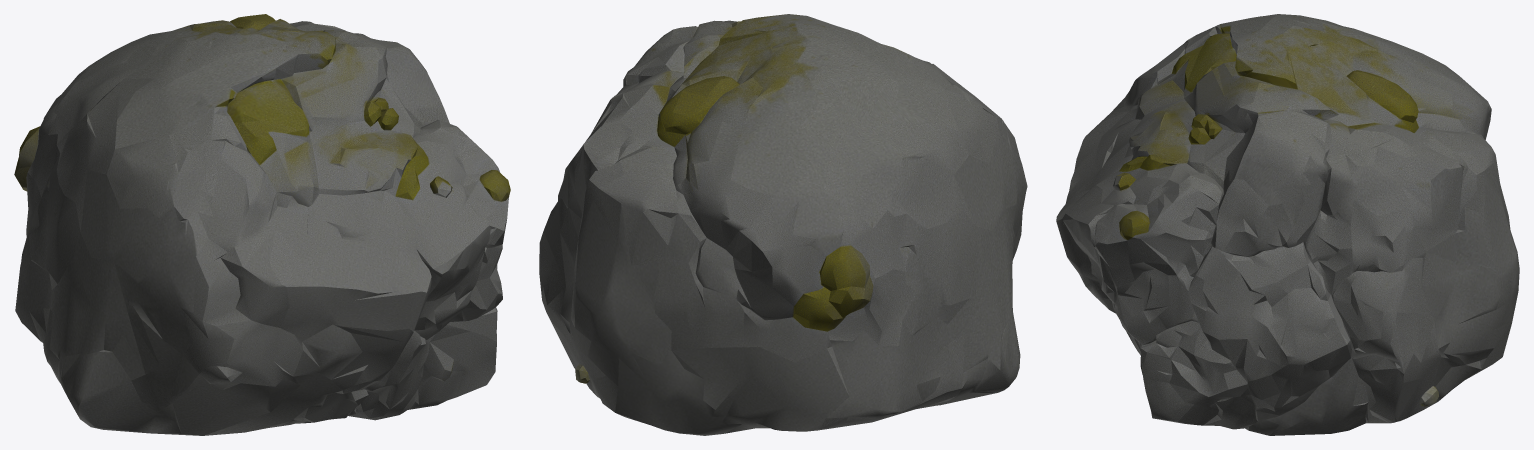
The model's file is rock_mossy.glb.
The picture shows the model from 3 angles, left to right: view 1: azimuth 30°, elevation 25°; view 2: azimuth 150°, elevation 25°; view 3: azimuth 270°, elevation 25°; orthographic projection. The views are drawn at different scales.
Bounding box in the file's own units: 1.8 × 1.52 × 1.9.
1 material, 1 textured.
